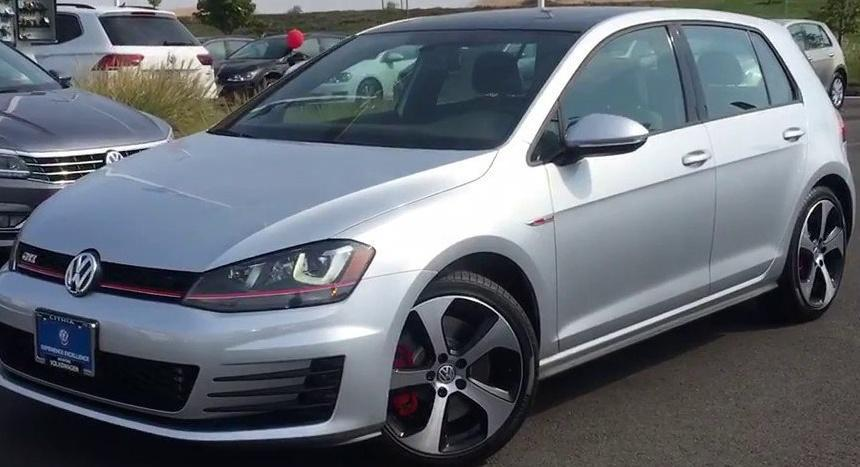Cars: (1, 9, 860, 465)
